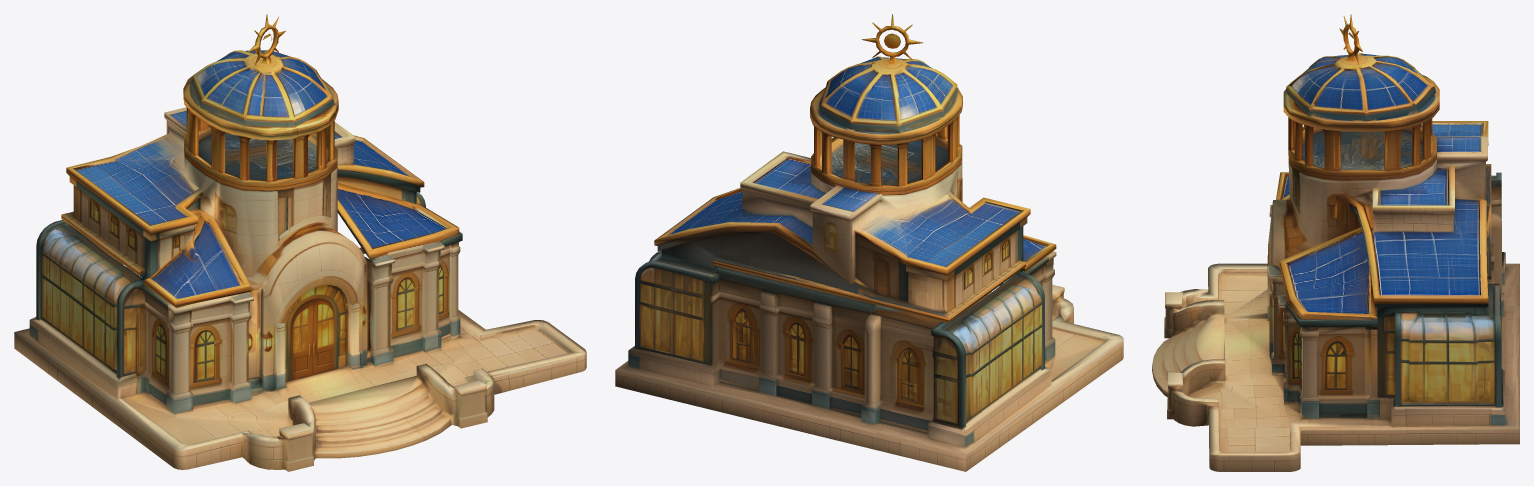
The model's file is townHall.glb.
3 renders of one model, left to right at view 1: azimuth 30°, elevation 25°; view 2: azimuth 150°, elevation 25°; view 3: azimuth 270°, elevation 25°, orthographic. The views are drawn at different scales.
Visible parts, largest first — view 1: dfad82e5_8c7a_40ff_957e_1181e707e615; view 2: dfad82e5_8c7a_40ff_957e_1181e707e615; view 3: dfad82e5_8c7a_40ff_957e_1181e707e615.
Part boxes in pixels (x1,y1,x2,y2): dfad82e5_8c7a_40ff_957e_1181e707e615: (14, 14, 586, 471); dfad82e5_8c7a_40ff_957e_1181e707e615: (615, 14, 1123, 471); dfad82e5_8c7a_40ff_957e_1181e707e615: (1152, 14, 1519, 471).
Bounding box in the file's own units: 0.9995 × 0.8501 × 0.814.
Materials: 1 (1 with a texture image).
